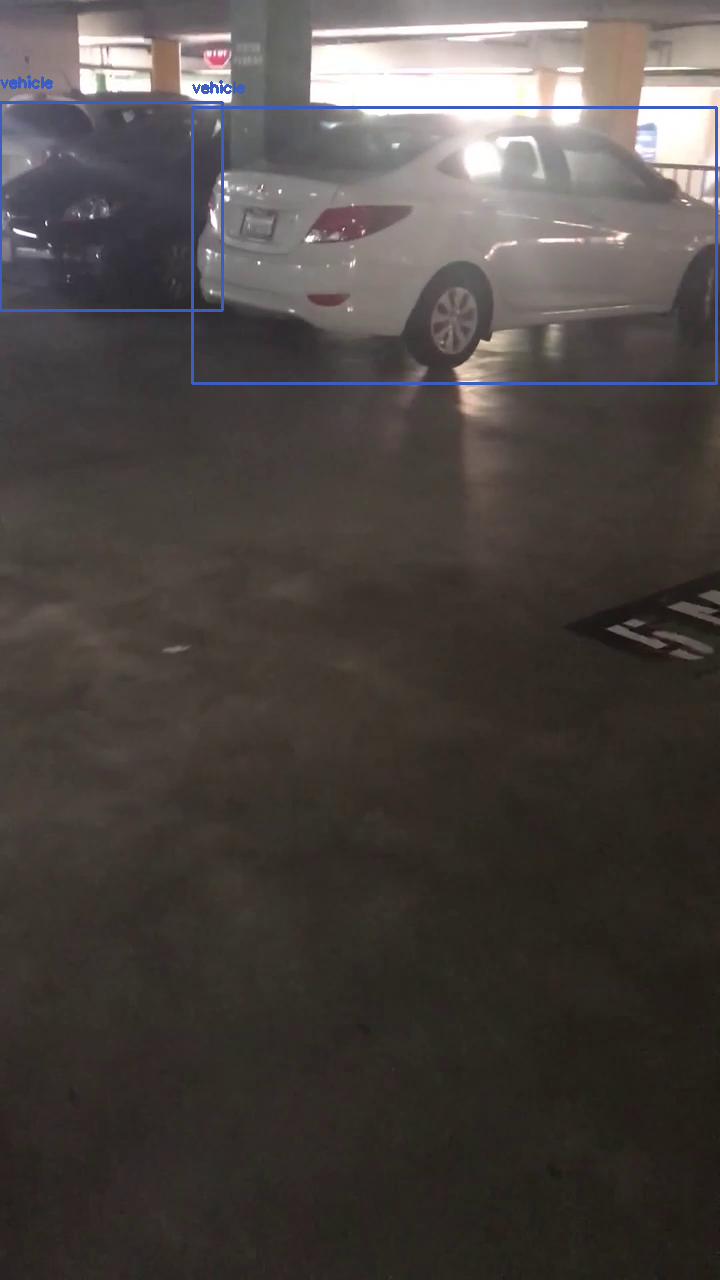vehicle: (192, 107, 716, 383), (0, 102, 222, 310)
